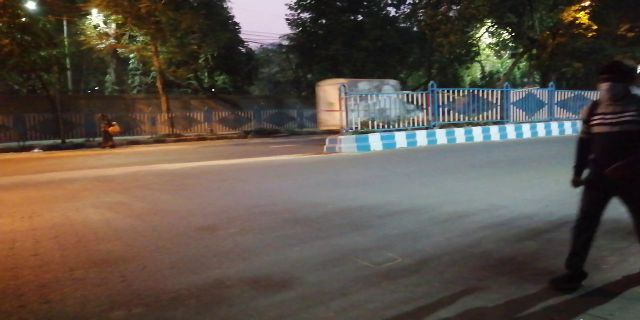Minitruck: (312, 74, 428, 135)
